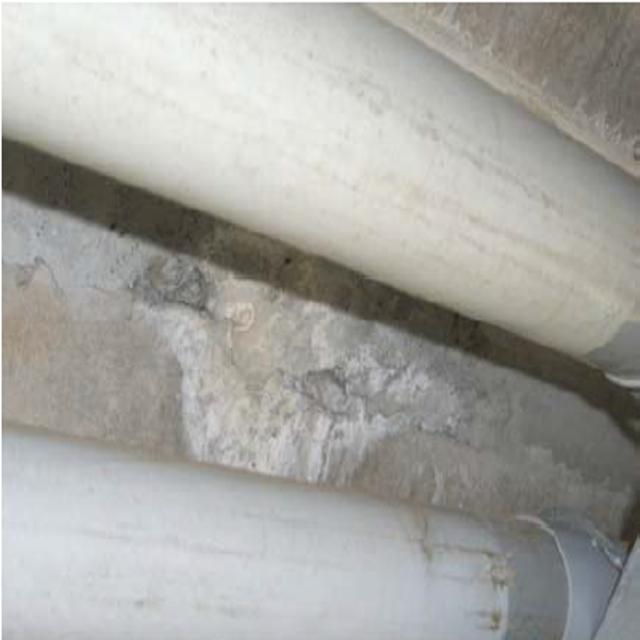spalling: (142, 262, 417, 478)
